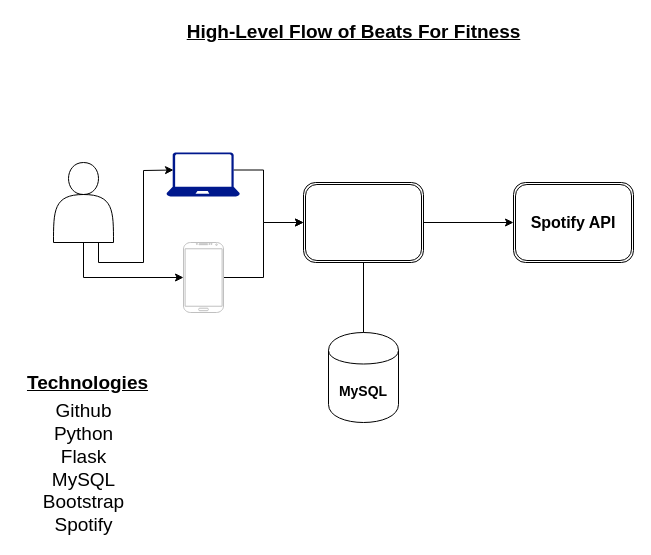
The diagram is 651 pixels wide and 555 high, and some of its shapes have lost their labels. Here are the shapes that lost their labels. From the top down, the centre of each, then its label:
At (83,202): "User".
At (363,222): "BFF".
